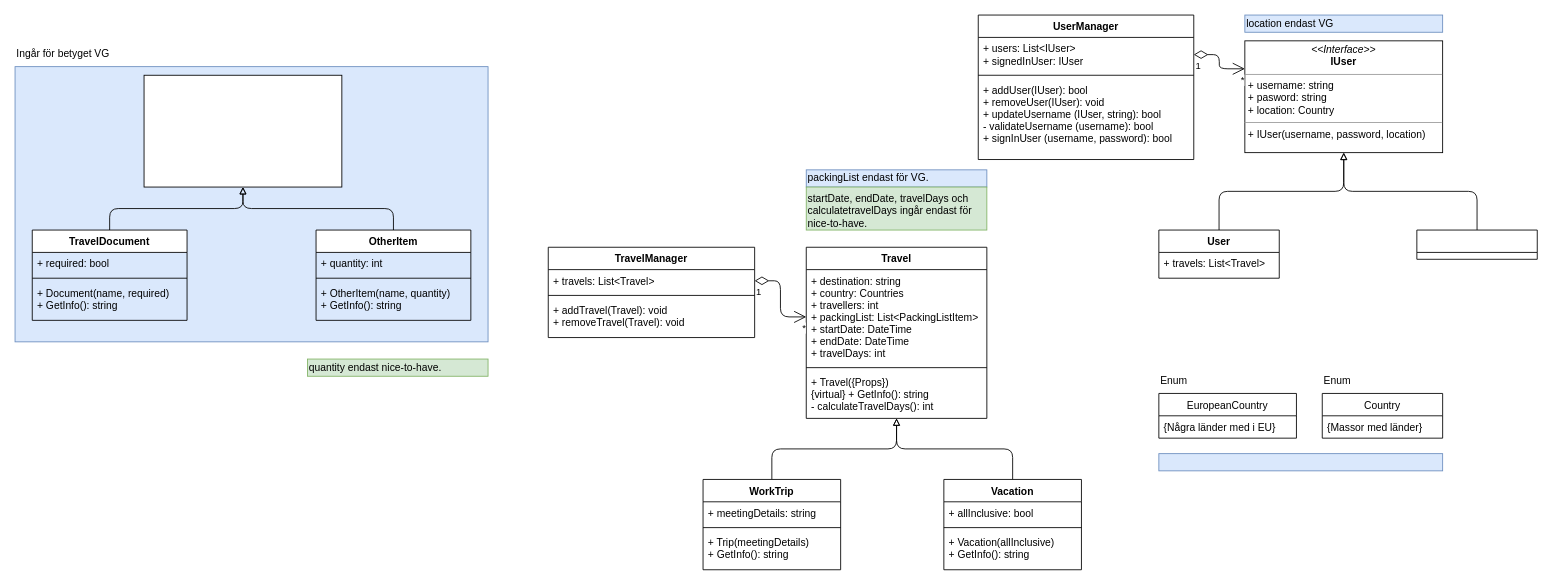
Image size: 1552x587. Some labels were removed from this diagram. Here are the shapes that lost their labels. From the top down, the centre of each, then its label:
At point (242, 130): "<<Interface>> PackingListItem + name: string + GetInfo(): string".
At point (1476, 244): "Admin".
At point (1300, 462): "Länder endast för VG".
